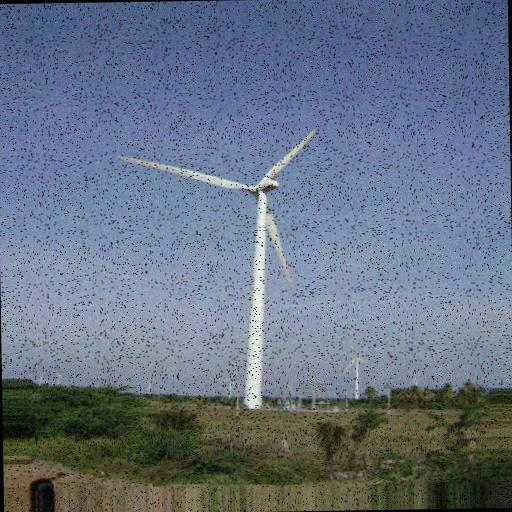wind turbine: (118, 125, 320, 405)
